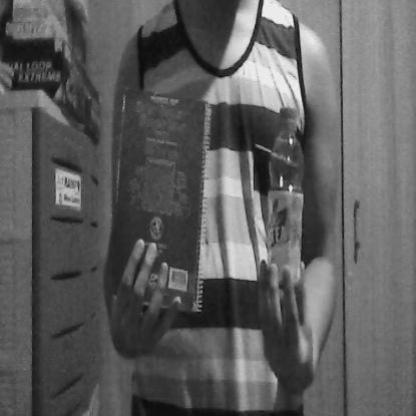Plastic Bottle: (264, 101, 310, 309)
